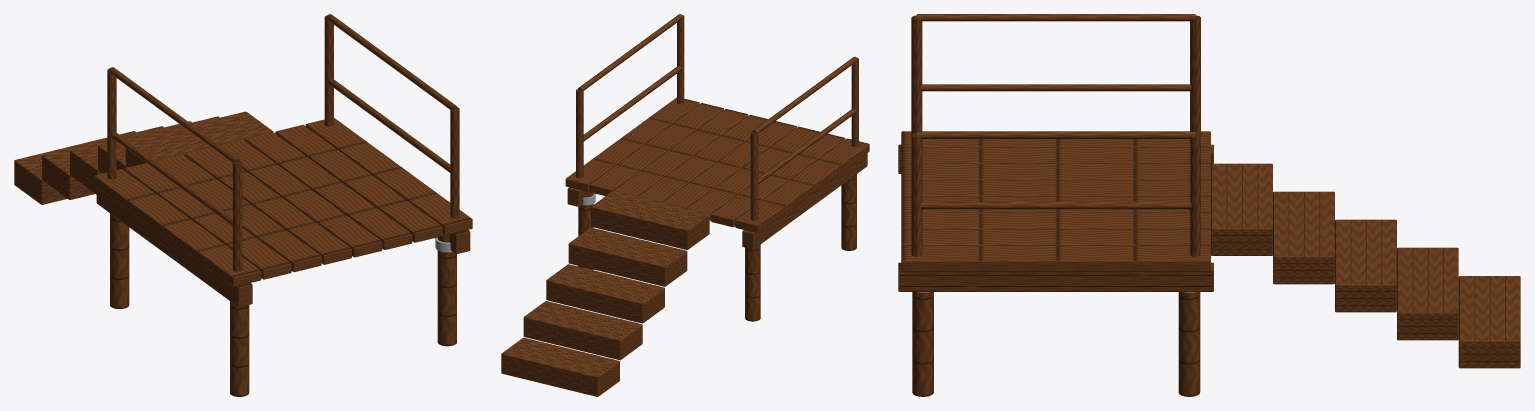
Rendered from flooded-and-coastal-survival-shore-stair-landing-d48005bb__20040.glb.
3 views of the same model, side by side, from view 1: azimuth 30°, elevation 25°; view 2: azimuth 150°, elevation 25°; view 3: azimuth 270°, elevation 25° (orthographic). The views are drawn at different scales.
Parts seen in each view (by area): view 1: shore-stair-landing; view 2: shore-stair-landing; view 3: shore-stair-landing.
Part boxes in pixels (left/top/right/bottom): shore-stair-landing: left=14, top=14, right=472, bottom=396; shore-stair-landing: left=501, top=14, right=869, bottom=396; shore-stair-landing: left=898, top=14, right=1520, bottom=396.
Bounding box in the file's own units: 1.99 × 1.87 × 4.02.
2 materials, 1 textured.
